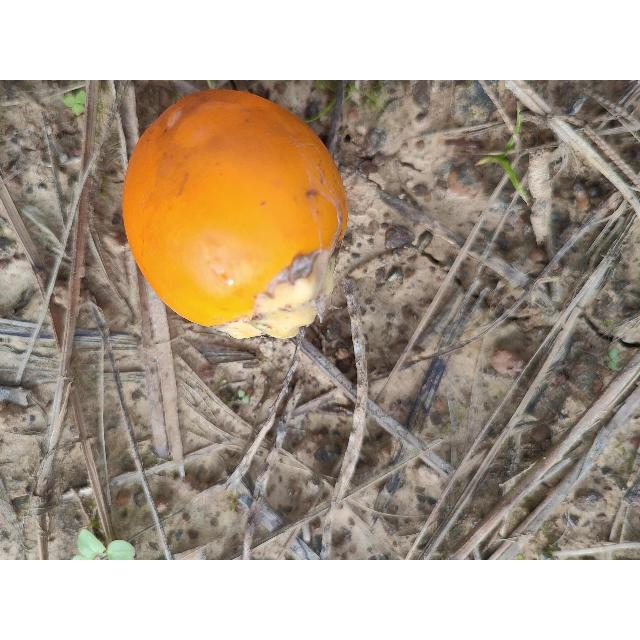good: (121, 89, 350, 338)
